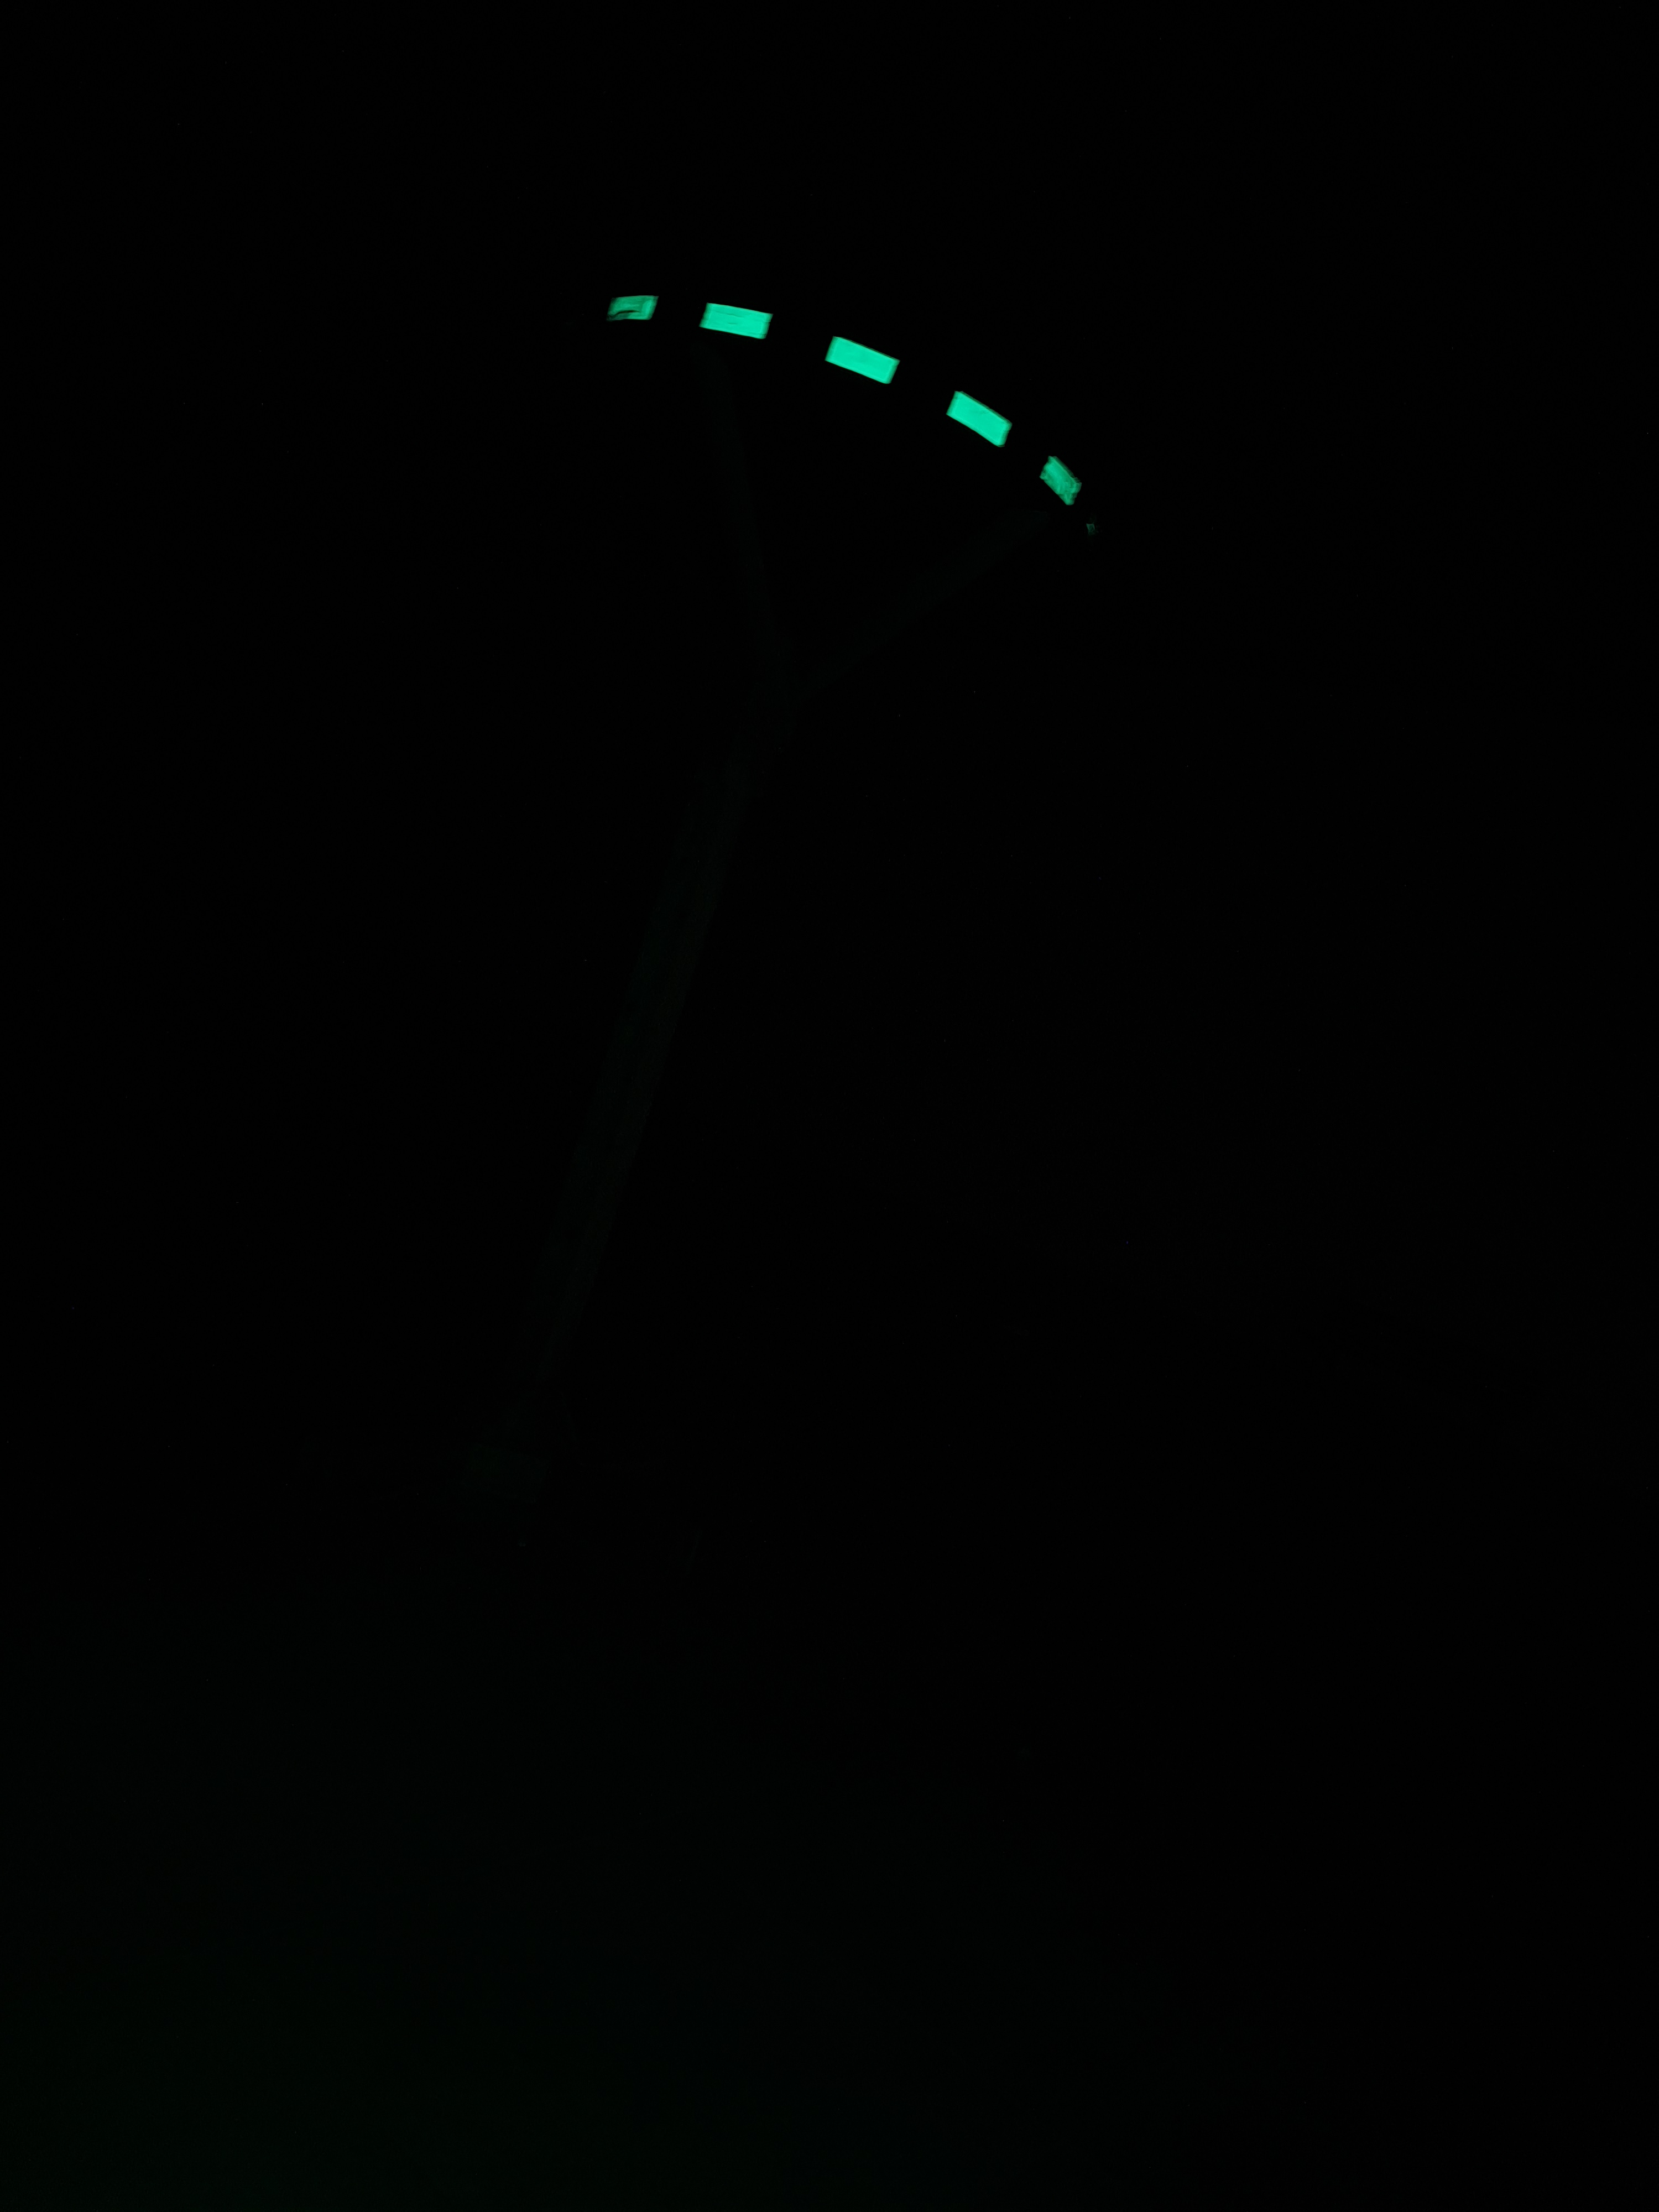hoop: (608, 284, 1086, 509)
